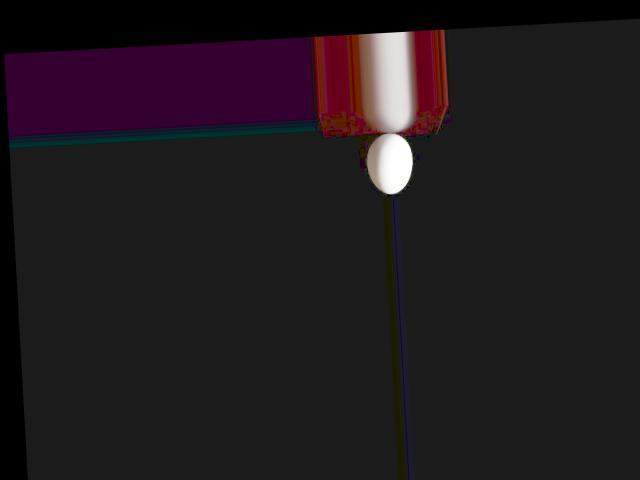egg: (366, 131, 414, 194)
